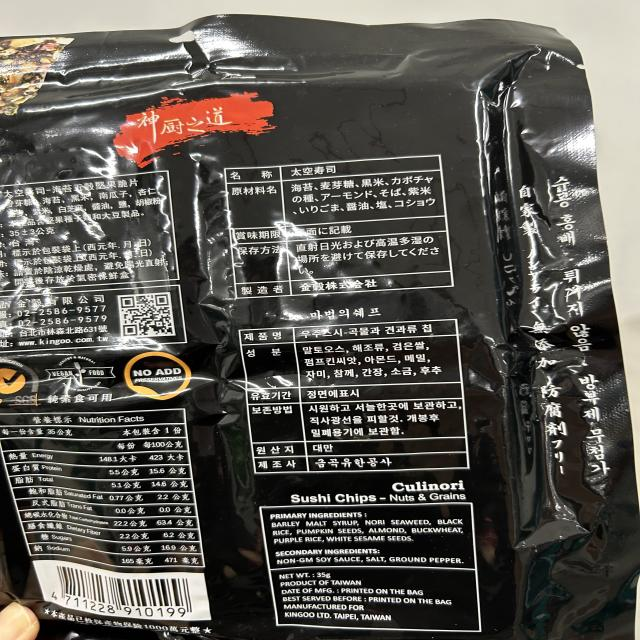object_name: (2, 39, 631, 640)
